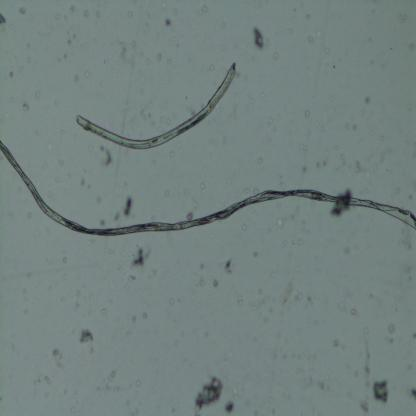Background material: (359, 328, 371, 413), (192, 376, 224, 406), (250, 290, 276, 324), (330, 190, 352, 218), (372, 377, 392, 404), (129, 248, 153, 269), (119, 41, 140, 65), (78, 329, 96, 356), (396, 224, 416, 248), (278, 281, 295, 305), (68, 284, 82, 313), (98, 144, 114, 168), (251, 28, 264, 53), (383, 323, 396, 347), (33, 372, 52, 388), (122, 196, 133, 220), (400, 261, 414, 279), (353, 159, 367, 176), (223, 256, 235, 275), (229, 102, 242, 119), (290, 204, 302, 222), (52, 350, 64, 368), (304, 291, 315, 310), (314, 159, 329, 172), (305, 353, 314, 374), (336, 151, 347, 168), (288, 349, 302, 362), (99, 377, 111, 391), (340, 242, 352, 256), (104, 59, 116, 73), (224, 398, 235, 413), (66, 30, 77, 45), (282, 25, 297, 36), (344, 122, 360, 132), (124, 273, 140, 283), (267, 348, 281, 359), (125, 397, 133, 416), (316, 379, 326, 394), (276, 214, 286, 229), (196, 6, 211, 16), (408, 385, 416, 403), (389, 184, 402, 195), (244, 90, 254, 104), (378, 150, 386, 167), (170, 36, 181, 48), (67, 2, 78, 14), (148, 269, 159, 281), (60, 250, 68, 266), (107, 369, 116, 383), (133, 376, 143, 388), (185, 210, 195, 222), (201, 327, 209, 342), (128, 312, 138, 324), (97, 304, 109, 314), (224, 132, 231, 149), (116, 260, 124, 274), (270, 52, 278, 66), (299, 141, 309, 152), (57, 51, 67, 62), (112, 210, 121, 222), (163, 18, 173, 28), (56, 157, 65, 168), (206, 295, 212, 311), (241, 220, 249, 232), (196, 278, 206, 287), (0, 11, 6, 26), (350, 307, 359, 317), (364, 95, 372, 106), (164, 54, 172, 65), (173, 6, 181, 17), (238, 294, 244, 308), (307, 33, 314, 45), (296, 290, 303, 302), (19, 6, 27, 16), (22, 102, 30, 112), (315, 28, 323, 38), (92, 10, 100, 20), (94, 194, 102, 204), (166, 297, 176, 305), (304, 108, 311, 119), (82, 10, 90, 19), (170, 338, 179, 346), (80, 179, 88, 188), (290, 15, 298, 24), (100, 219, 108, 228), (54, 175, 61, 185), (83, 66, 90, 76), (170, 404, 177, 414), (303, 161, 310, 171), (258, 155, 264, 166), (162, 3, 168, 14), (297, 237, 305, 245), (252, 250, 260, 258), (333, 340, 341, 348), (73, 73, 81, 81), (199, 262, 207, 270), (242, 74, 250, 82), (25, 55, 32, 64), (253, 186, 259, 196), (22, 198, 29, 206), (26, 13, 33, 21), (379, 134, 386, 142), (156, 51, 163, 59), (26, 210, 32, 219), (34, 90, 40, 99), (74, 394, 79, 404), (56, 12, 62, 20), (128, 10, 134, 18), (208, 63, 214, 71), (69, 406, 75, 414), (62, 388, 68, 396), (369, 130, 377, 136), (324, 372, 330, 380), (61, 293, 66, 302), (213, 279, 218, 288), (8, 70, 14, 77), (284, 353, 290, 360), (62, 274, 68, 281), (23, 309, 29, 316), (360, 108, 365, 116), (259, 2, 264, 10), (310, 376, 314, 386), (268, 117, 272, 127), (26, 272, 31, 280), (296, 367, 302, 373), (63, 16, 69, 22), (140, 312, 146, 318), (293, 7, 298, 14), (306, 316, 311, 322), (307, 14, 312, 20), (236, 72, 241, 78), (142, 76, 146, 83), (246, 14, 250, 21), (408, 193, 412, 200), (146, 58, 150, 65), (334, 145, 339, 150), (325, 50, 330, 55), (261, 92, 265, 98), (259, 74, 263, 79), (104, 2, 107, 8), (68, 172, 71, 178), (222, 46, 225, 52), (27, 44, 30, 50), (88, 183, 91, 189), (332, 65, 336, 69), (56, 0, 59, 5), (115, 22, 118, 27), (269, 228, 272, 233)
Cotton: (0, 139, 416, 237), (75, 61, 237, 149)
